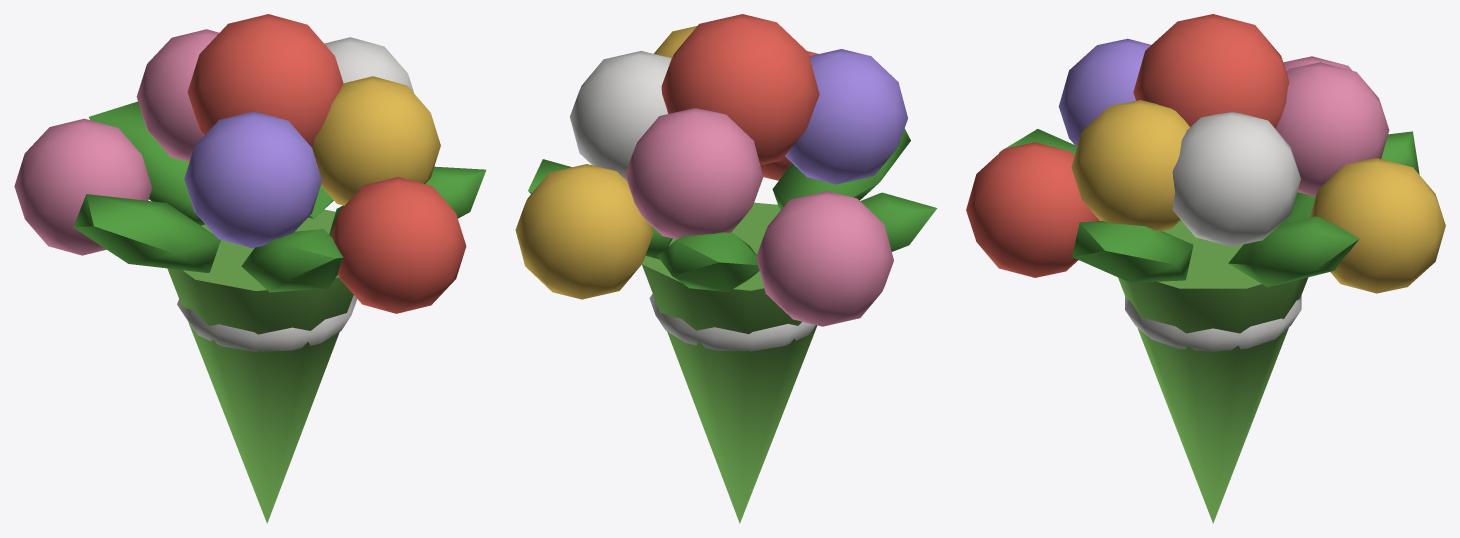
File: bouquet.fbx
3 renders of one model, left to right at view 1: azimuth 30°, elevation 25°; view 2: azimuth 150°, elevation 25°; view 3: azimuth 270°, elevation 25°, orthographic.
Visible parts, largest first — view 1: bouquet; view 2: bouquet; view 3: bouquet.
Part boxes in pixels (bbox=[...]): bouquet: bbox=[14, 14, 486, 523]; bouquet: bbox=[515, 14, 937, 523]; bouquet: bbox=[966, 14, 1445, 523].
Bounding box in the file's own units: 0.2687 × 0.362 × 0.3124.
